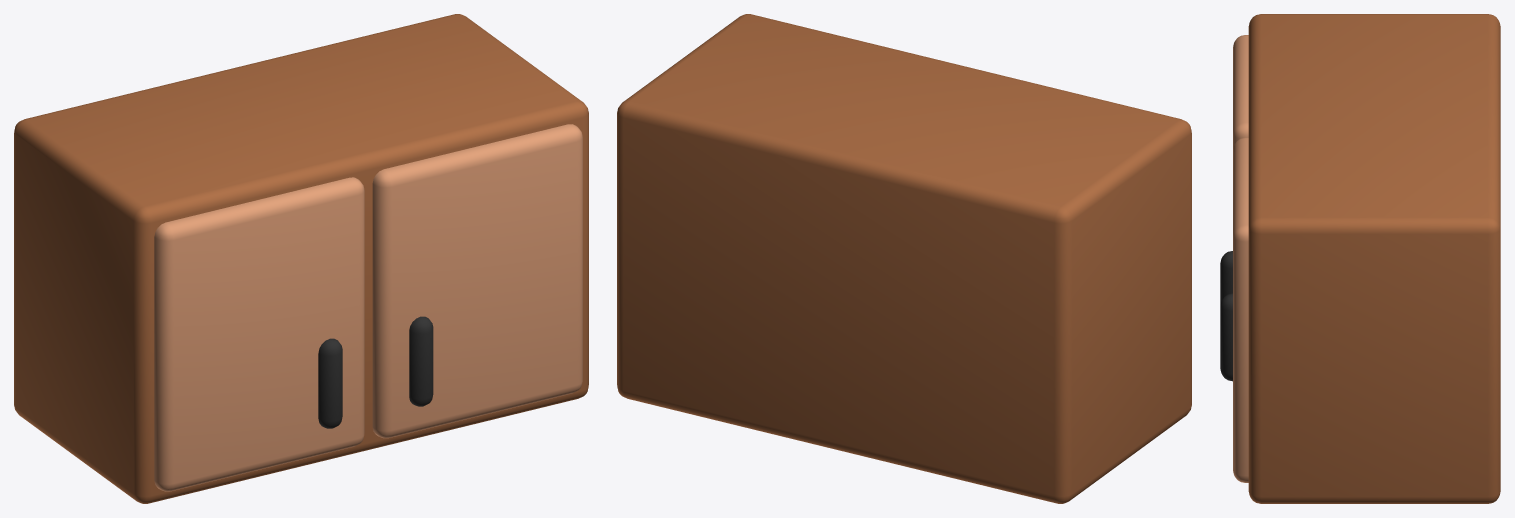
File: tumba_verh_80x40x50_1.glb
3 views of the same model, side by side, from view 1: azimuth 30°, elevation 25°; view 2: azimuth 150°, elevation 25°; view 3: azimuth 270°, elevation 25° (orthographic). The views are drawn at different scales.
Parts seen in each view (by area): view 1: Cube.055; view 2: Cube.055; view 3: Cube.055.
Part boxes in pixels (box(x1,y1,x2,y2)): Cube.055: box(14, 14, 588, 503); Cube.055: box(617, 14, 1191, 503); Cube.055: box(1220, 14, 1500, 503).
Size of the model in its own units: 0.8 by 0.5 by 0.445.
